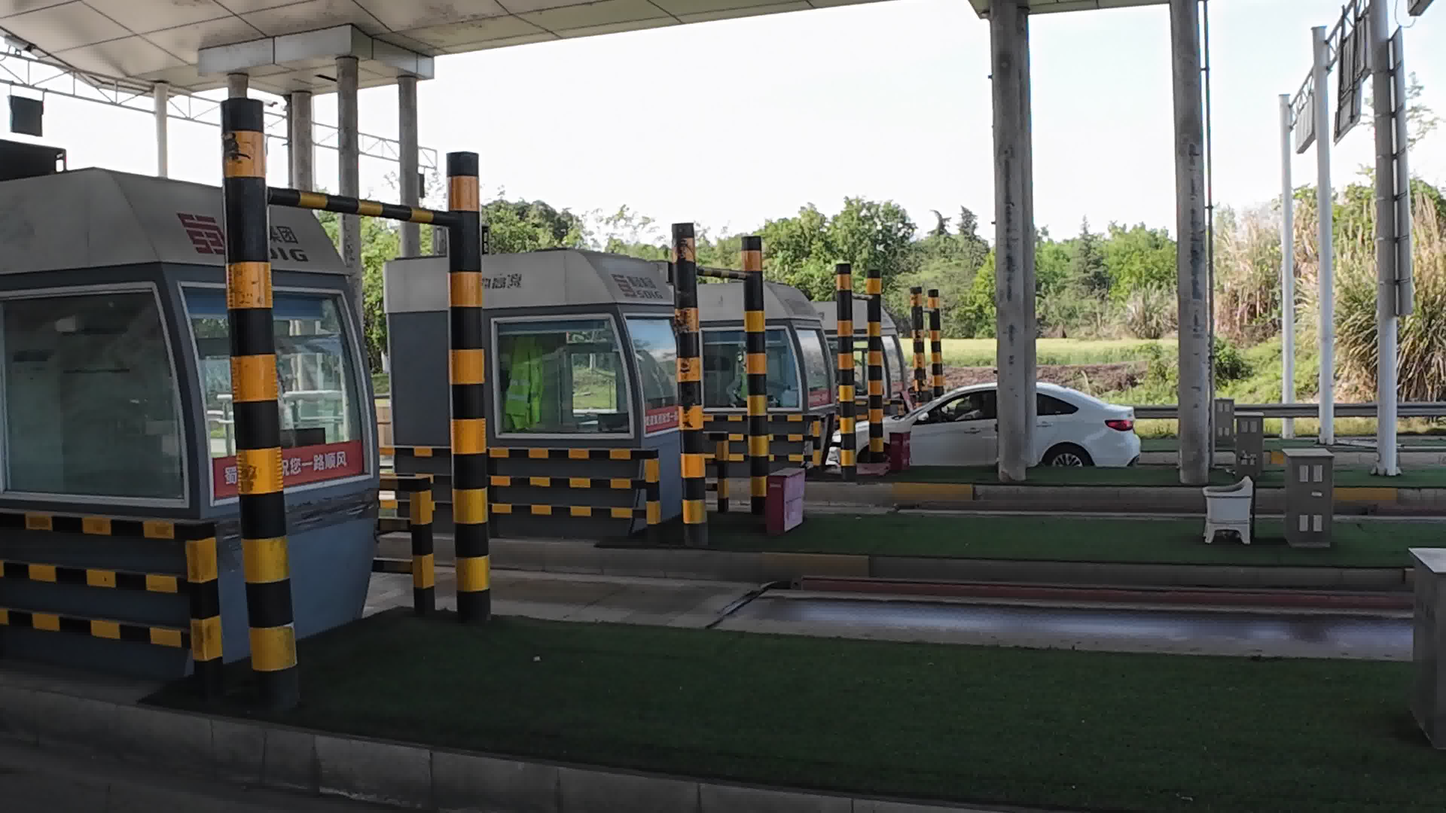fire_box: (746, 460, 819, 550), (878, 429, 916, 491)
roadside_plant: (1042, 199, 1446, 430), (769, 207, 991, 295)
toll_booth: (0, 157, 370, 620), (363, 246, 692, 540), (680, 276, 844, 461), (849, 302, 918, 420)
